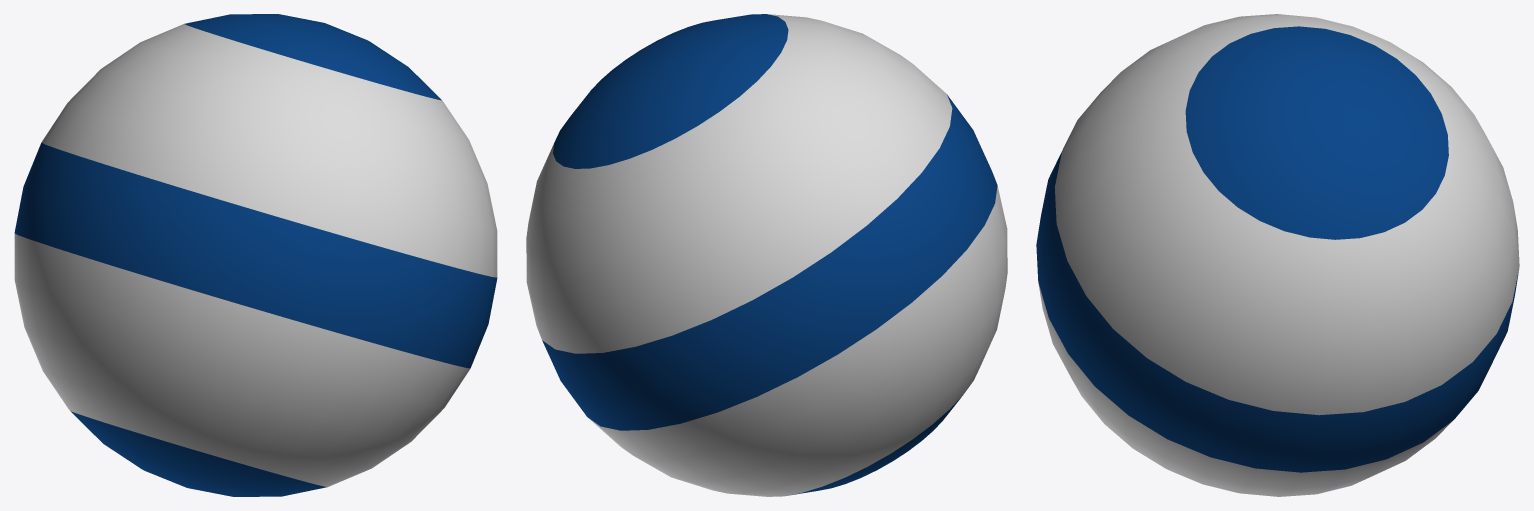
File: Pelota.fbx
3 renders of one model, left to right at view 1: azimuth 30°, elevation 25°; view 2: azimuth 150°, elevation 25°; view 3: azimuth 270°, elevation 25°, orthographic.
Visible parts, largest first — view 1: Pelota; view 2: Pelota; view 3: Pelota.
Boxes of the visible parts, box(x1,y1,x2,y2) form: Pelota: box(14, 14, 497, 496); Pelota: box(526, 14, 1007, 496); Pelota: box(1036, 14, 1519, 496).
Size of the model in its own units: 30.44 by 30.4 by 30.47.
